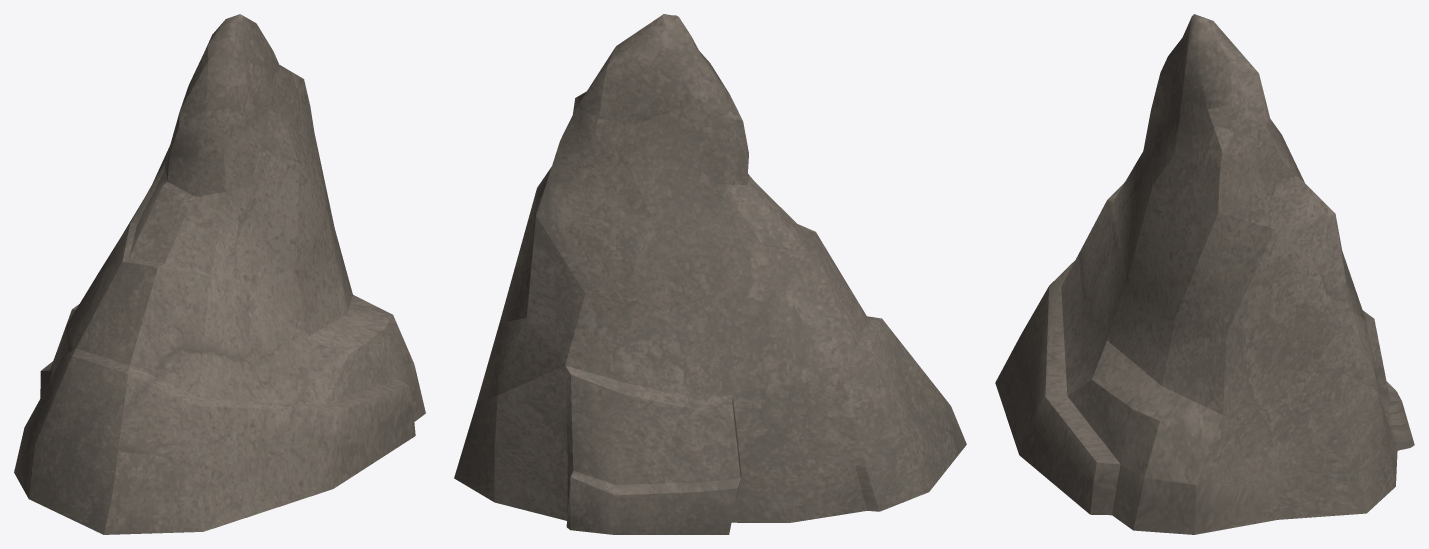
The model's file is Stone3.fbx.
3 renders of one model, left to right at view 1: azimuth 30°, elevation 25°; view 2: azimuth 150°, elevation 25°; view 3: azimuth 270°, elevation 25°, orthographic. The views are drawn at different scales.
Parts seen in each view (by area): view 1: Box001; view 2: Box001; view 3: Box001.
Part boxes in pixels (x1,y1,x2,y2): Box001: [14, 14, 425, 534]; Box001: [454, 14, 966, 534]; Box001: [995, 14, 1414, 534].
Size of the model in its own units: 214 by 214 by 188.
1 material, 1 textured.
